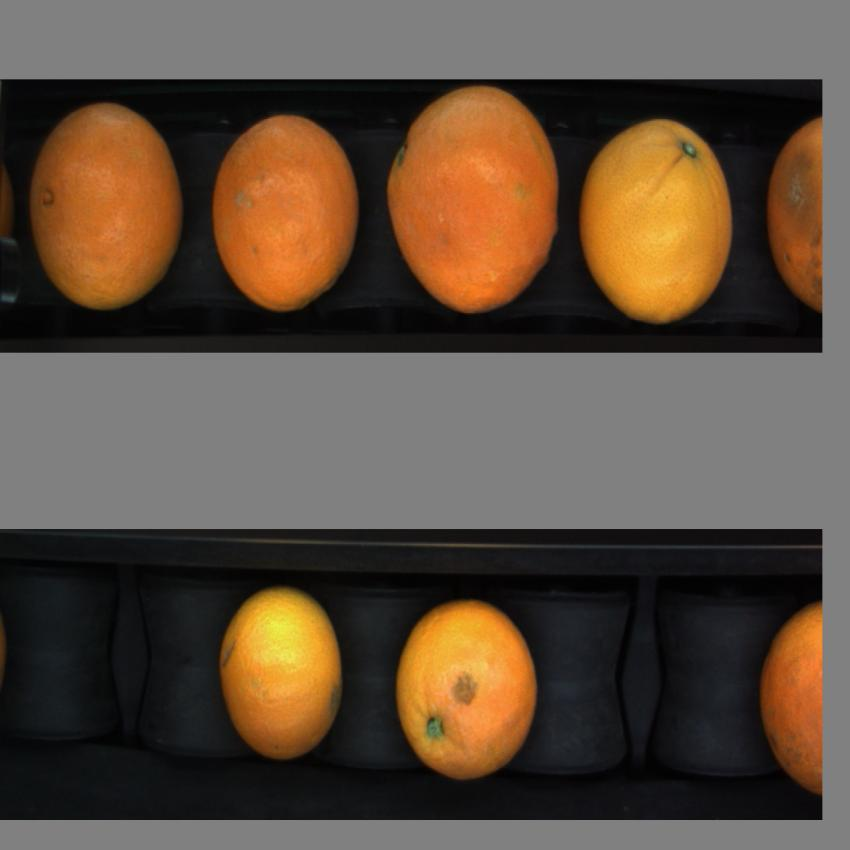Buen estado: (385, 80, 561, 324), (575, 106, 736, 332), (28, 97, 190, 316), (211, 106, 362, 327), (201, 577, 354, 771), (392, 596, 548, 786)
Mal estado: (753, 592, 823, 800), (760, 108, 822, 322)
